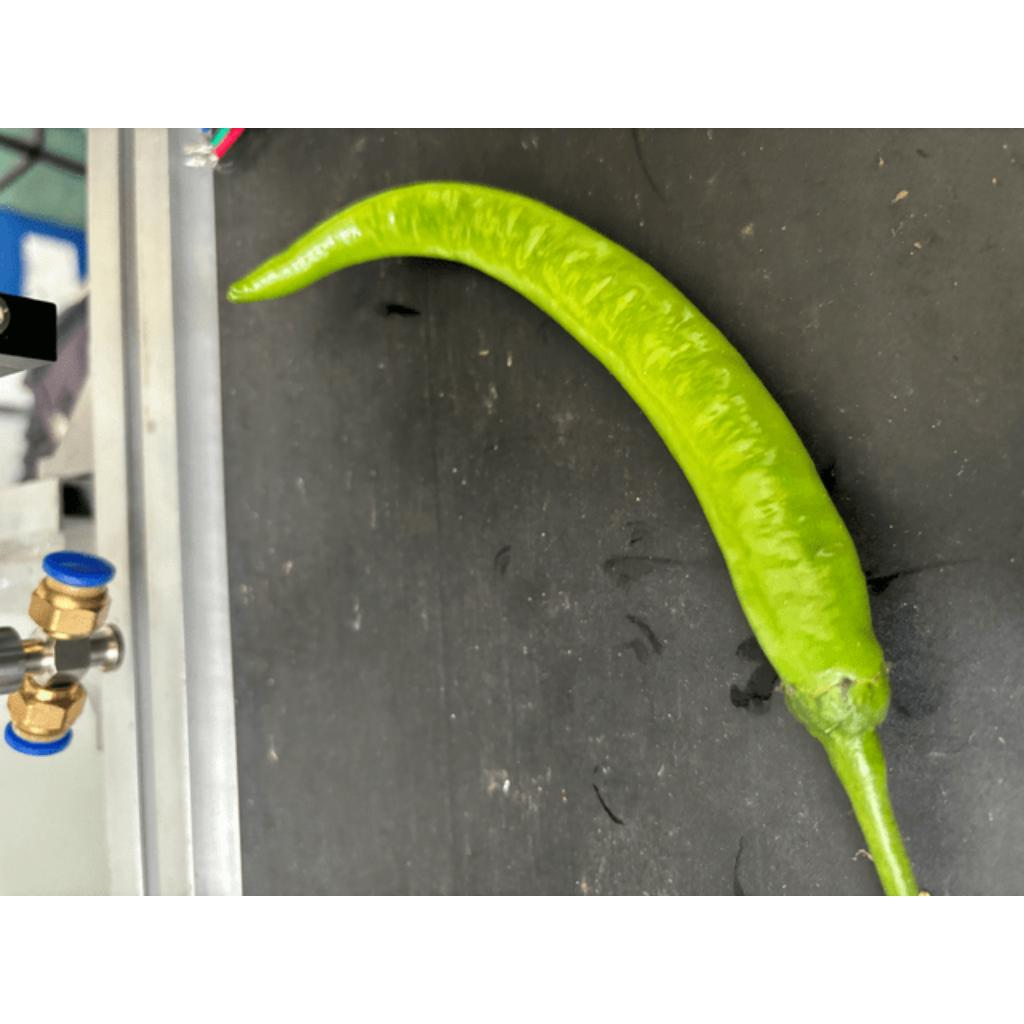chili: (225, 177, 890, 747)
